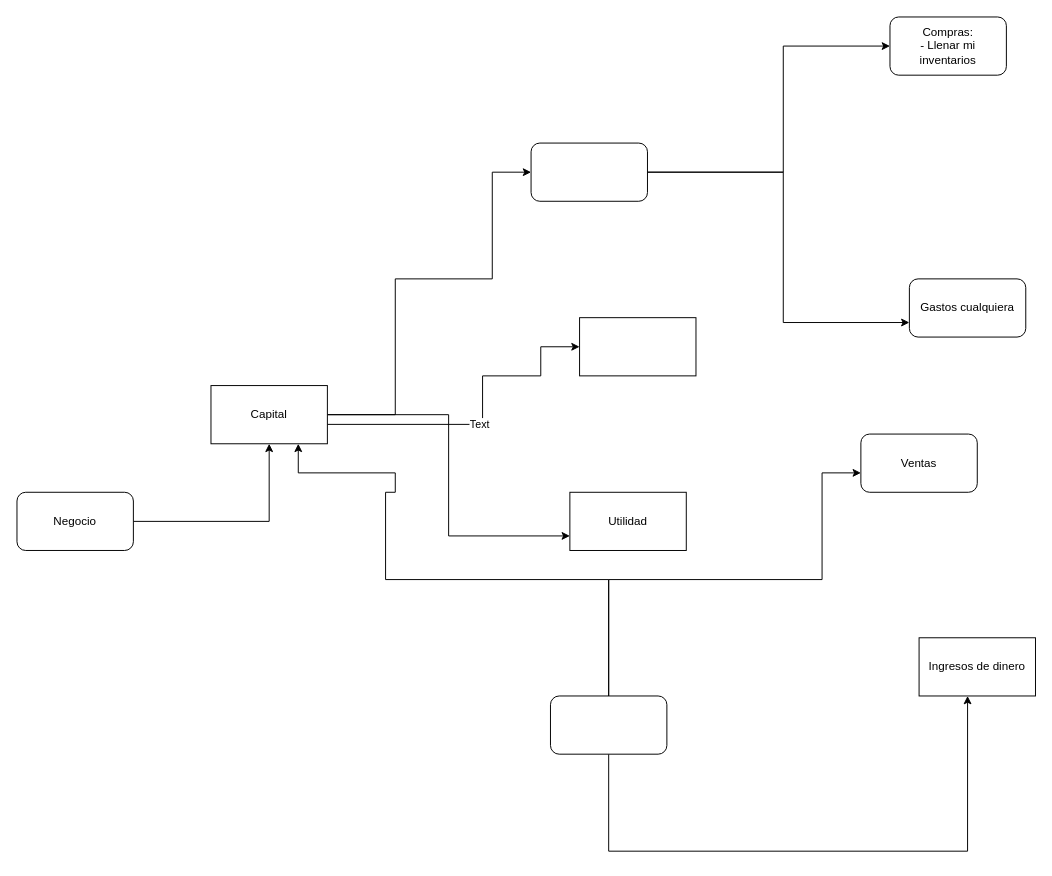
This 1052x876 diagram has some shape labels left out. Here are the shapes that lost their labels. From the top down, the centre of each, then its label:
At [588,171]: "Egresos".
At [637,346]: "Inversion".
At [608,724]: "Ingresos".
